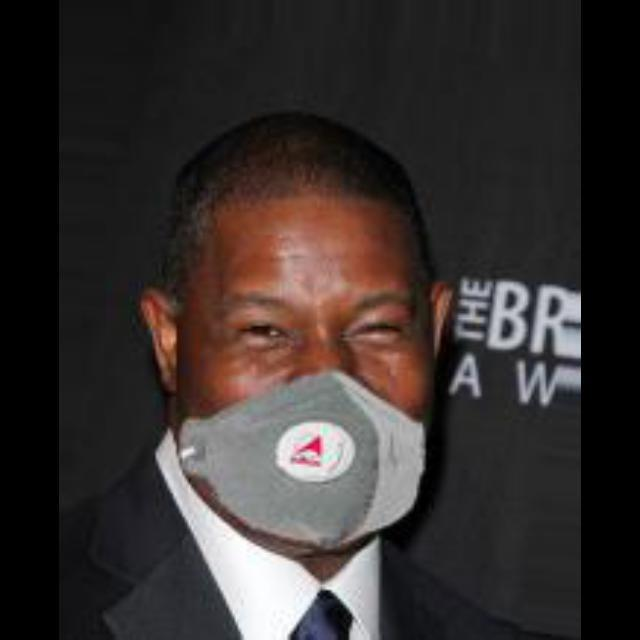suspicion: (166, 155, 454, 557)
